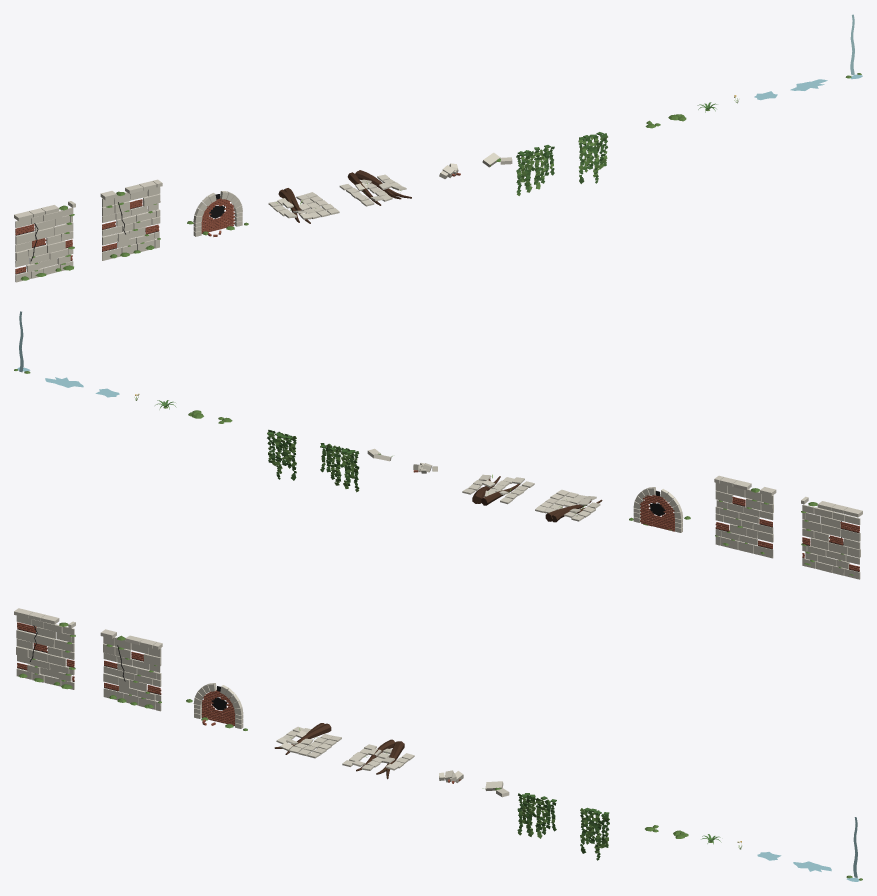
The model's file is corner-kit.glb.
The picture shows the model from 3 angles, top to bottom: view 1: azimuth 30°, elevation 25°; view 2: azimuth 150°, elevation 25°; view 3: azimuth 330°, elevation 25°; orthographic projection.
Visible parts, largest first — view 1: wall-crumble-b_stone, wall-crumble-a_stone, flags-roots-a_stone, flags-roots-b_stone, ivy-curtain-a_leaf, brick-arch_brick, brick-arch_stone, ivy-curtain-b_leaf, flags-roots-b_root, ivy-curtain-a_leaf-b; view 2: wall-crumble-b_stone, wall-crumble-a_stone, flags-roots-a_stone, flags-roots-b_stone, brick-arch_brick, ivy-curtain-a_leaf, brick-arch_stone, ivy-curtain-b_leaf, ivy-curtain-a_leaf-b; view 3: wall-crumble-b_stone, wall-crumble-a_stone, flags-roots-a_stone, flags-roots-b_stone, ivy-curtain-a_leaf, brick-arch_brick, brick-arch_stone, ivy-curtain-b_leaf, ivy-curtain-a_leaf-b.
Part boxes in pixels (x1=…): wall-crumble-b_stone: x1=100, y1=179, x2=162, y2=260; wall-crumble-a_stone: x1=14, y1=201, x2=75, y2=282; flags-roots-a_stone: x1=268, y1=192, x2=339, y2=219; flags-roots-b_stone: x1=339, y1=174, x2=406, y2=206; ivy-curtain-a_leaf: x1=516, y1=145, x2=554, y2=193; brick-arch_brick: x1=201, y1=198, x2=234, y2=236; brick-arch_stone: x1=193, y1=191, x2=242, y2=236; ivy-curtain-b_leaf: x1=579, y1=132, x2=607, y2=183; flags-roots-b_root: x1=347, y1=170, x2=411, y2=205; ivy-curtain-a_leaf-b: x1=517, y1=147, x2=553, y2=195; wall-crumble-b_stone: x1=714, y1=475, x2=776, y2=558; wall-crumble-a_stone: x1=801, y1=496, x2=862, y2=579; flags-roots-a_stone: x1=535, y1=489, x2=600, y2=521; flags-roots-b_stone: x1=462, y1=474, x2=534, y2=504; brick-arch_brick: x1=639, y1=495, x2=674, y2=531; ivy-curtain-a_leaf: x1=320, y1=443, x2=359, y2=488; brick-arch_stone: x1=633, y1=487, x2=683, y2=532; ivy-curtain-b_leaf: x1=267, y1=429, x2=296, y2=480; ivy-curtain-a_leaf-b: x1=322, y1=444, x2=359, y2=492; wall-crumble-b_stone: x1=100, y1=629, x2=162, y2=711; wall-crumble-a_stone: x1=14, y1=608, x2=75, y2=689; flags-roots-a_stone: x1=276, y1=726, x2=341, y2=758; flags-roots-b_stone: x1=342, y1=744, x2=414, y2=770; ivy-curtain-a_leaf: x1=517, y1=793, x2=556, y2=834; brick-arch_brick: x1=201, y1=690, x2=235, y2=725; brick-arch_stone: x1=193, y1=683, x2=243, y2=728; ivy-curtain-b_leaf: x1=580, y1=807, x2=609, y2=860; ivy-curtain-a_leaf-b: x1=518, y1=797, x2=554, y2=838.
Bounding box in the file's own units: 58.53 × 7.22 × 4.02.
